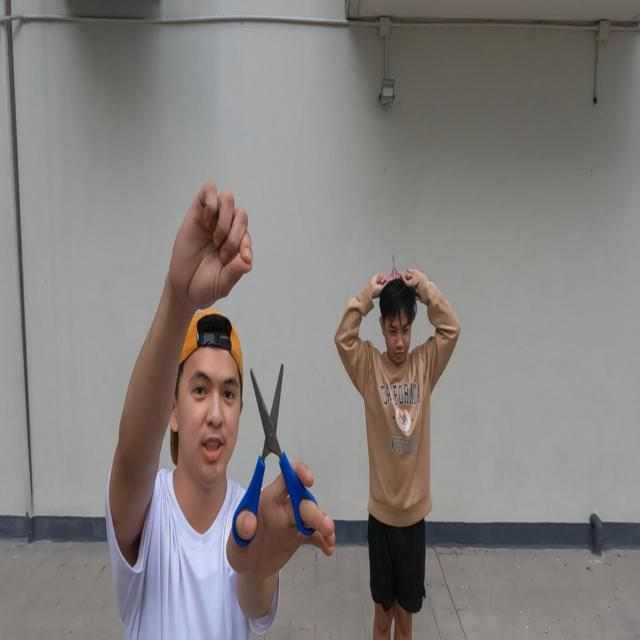scissor: (232, 362, 319, 547), (385, 252, 404, 282)
